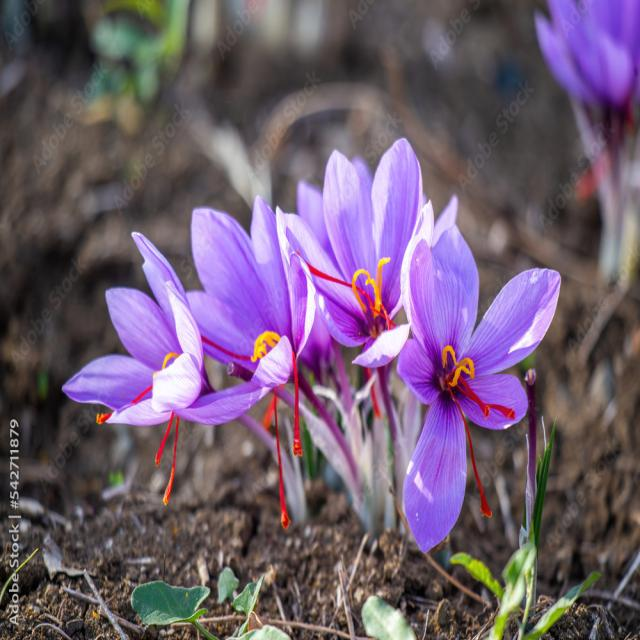saffron open: (398, 227, 560, 549), (62, 232, 276, 456), (281, 139, 434, 448), (189, 197, 340, 452)
